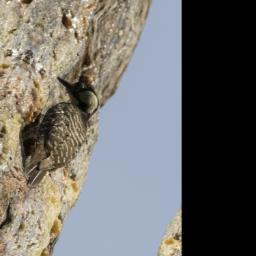Woodpecker: (3, 60, 105, 208)
